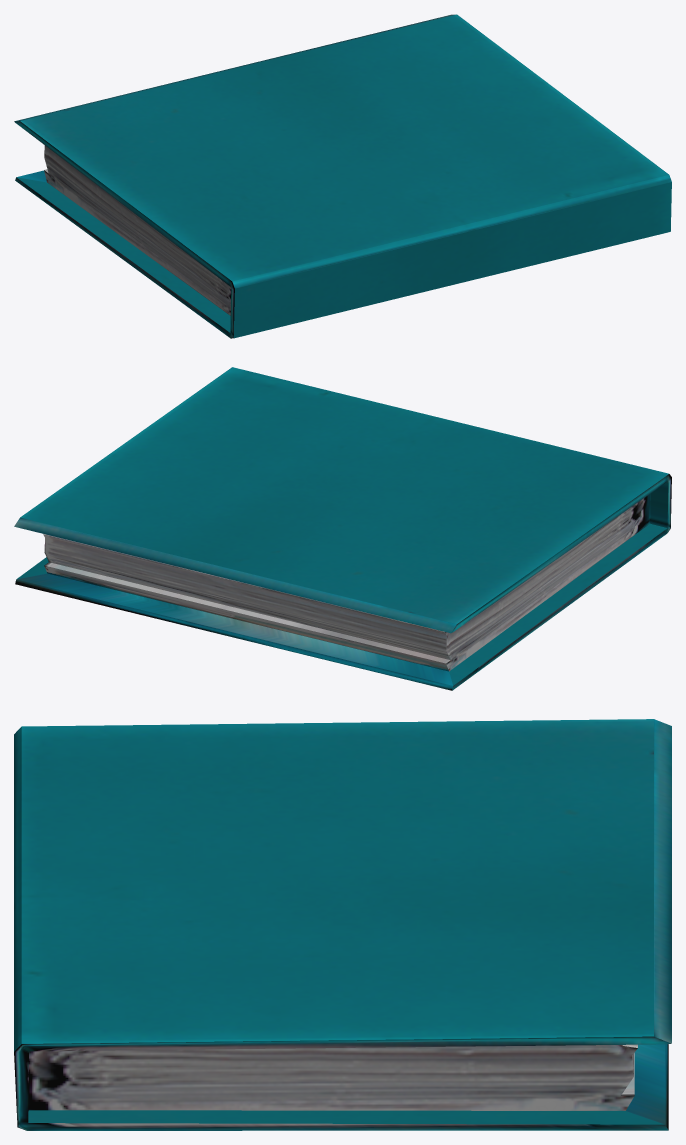
File: binder-6.FBX
The picture shows the model from 3 angles, top to bottom: view 1: azimuth 30°, elevation 25°; view 2: azimuth 150°, elevation 25°; view 3: azimuth 270°, elevation 25°; orthographic projection. The views are drawn at different scales.
Parts seen in each view (by area): view 1: Line01; view 2: Line01; view 3: Line01.
Boxes of the visible parts, box(x1,y1,x2,y2) form: Line01: box(14, 14, 671, 338); Line01: box(14, 367, 671, 690); Line01: box(14, 719, 671, 1130).
Size of the model in its own units: 13.1 by 1.81 by 11.47.
